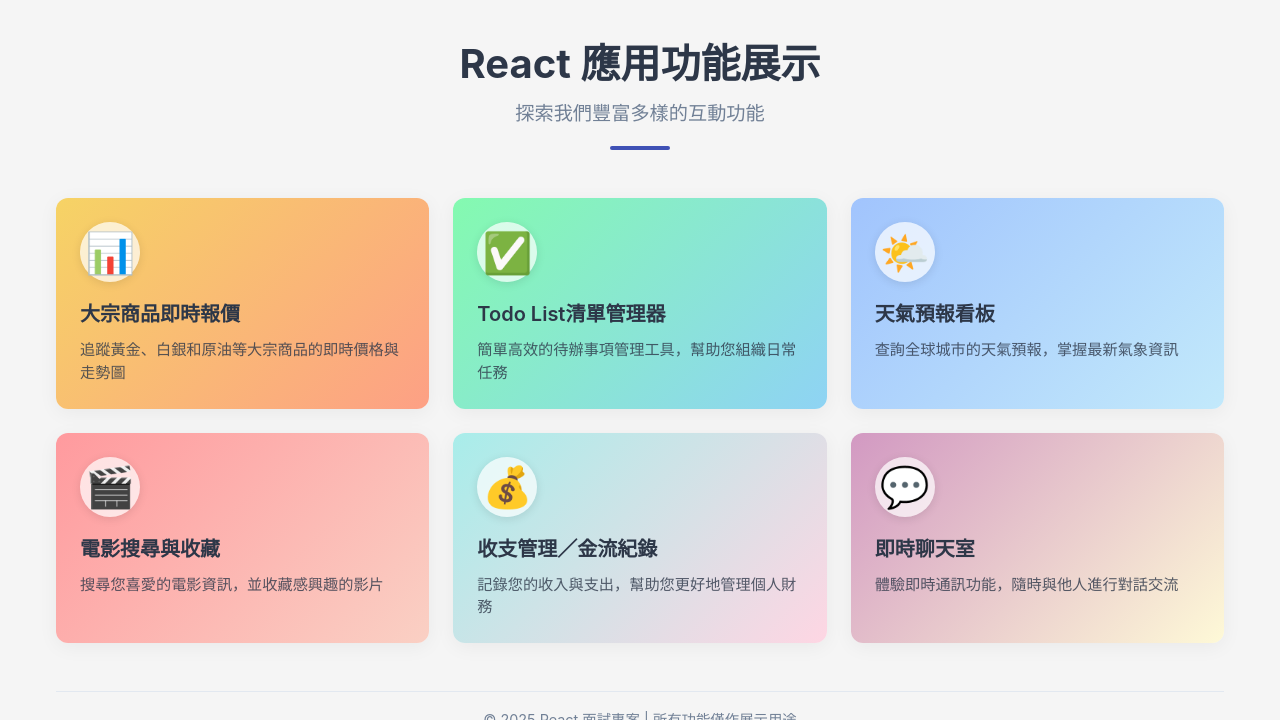
ChatApp E2E › 支持使用Enter發送訊息
This screenshot has width=1280, height=720.
Click the link "💬 即時聊天室 體驗即時通訊功能，隨時與他人進行對話交流" at [905, 487], box [851, 433, 1224, 644]
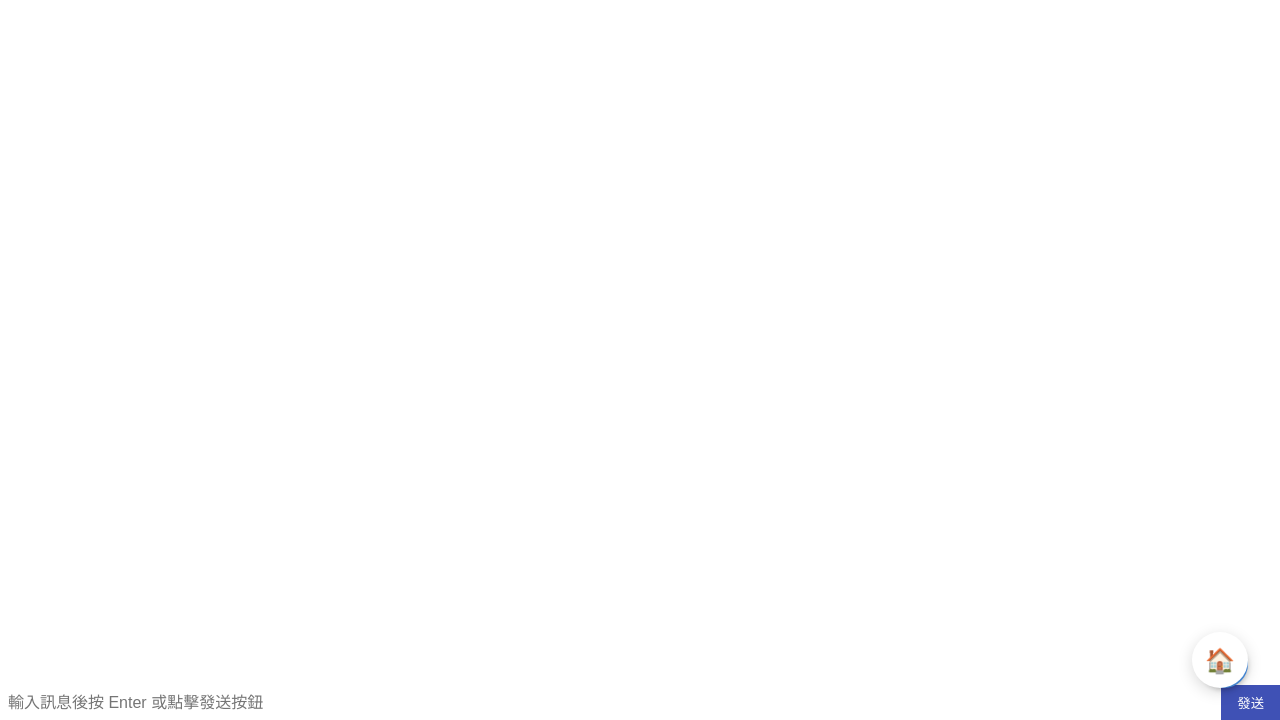
Type "Enter key test" into the field with class "chat-app-input" at [611, 703], box [0, 685, 1221, 719]
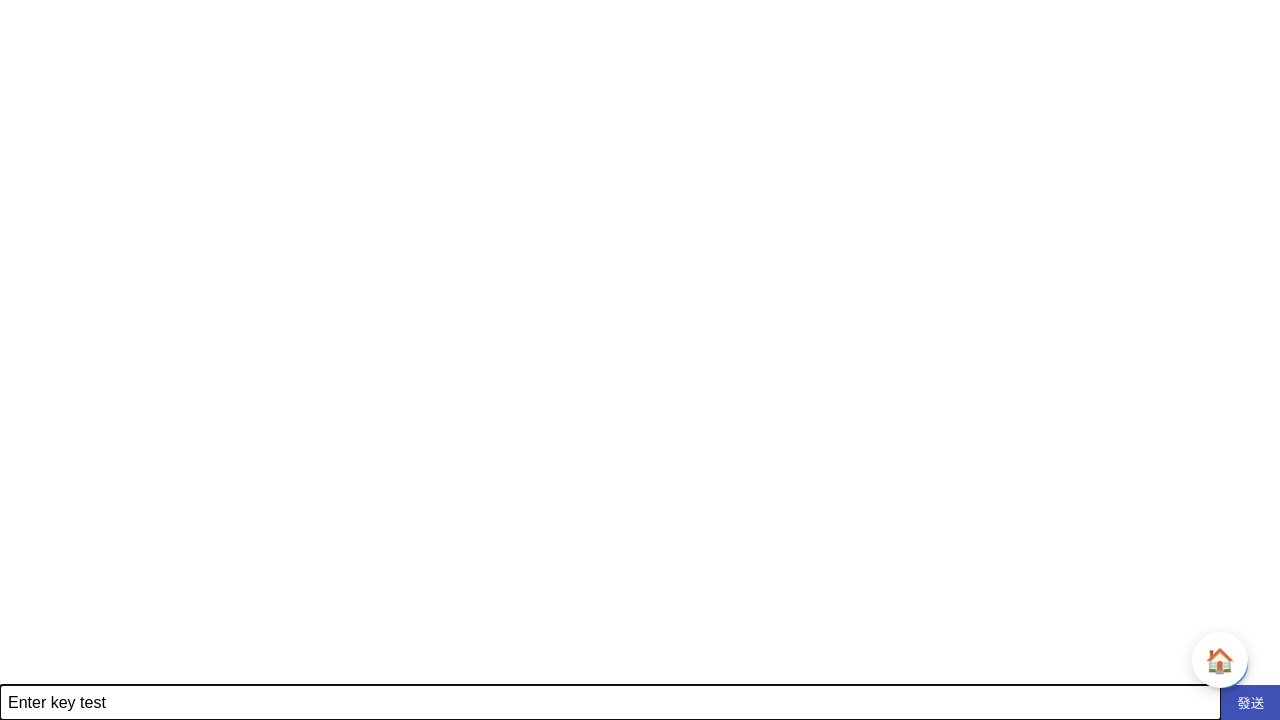
Press Enter in the field with class "chat-app-input", box [0, 685, 1221, 719]
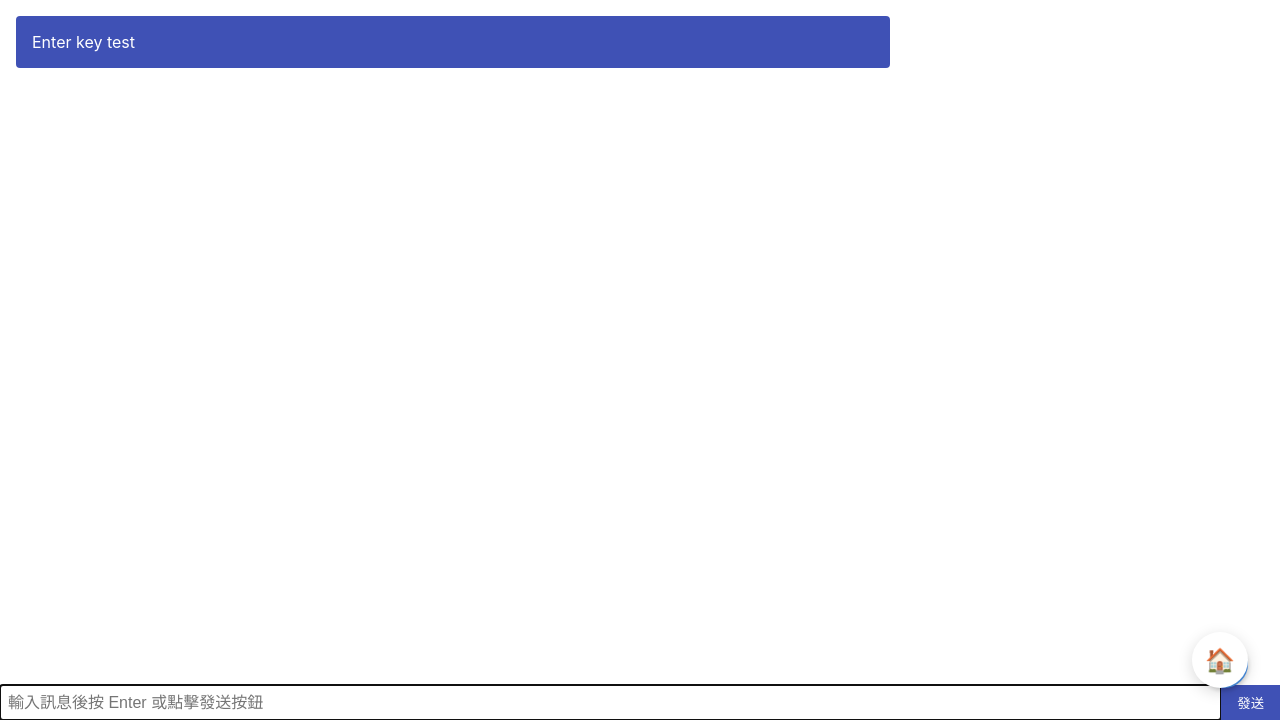
Result: the text "Enter key test" is shown at [16, 16, 890, 68]
